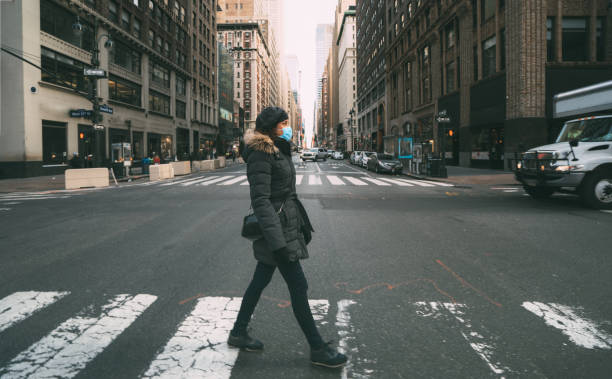kamyon: (530, 81, 611, 233)
yaya: (233, 75, 357, 358)
